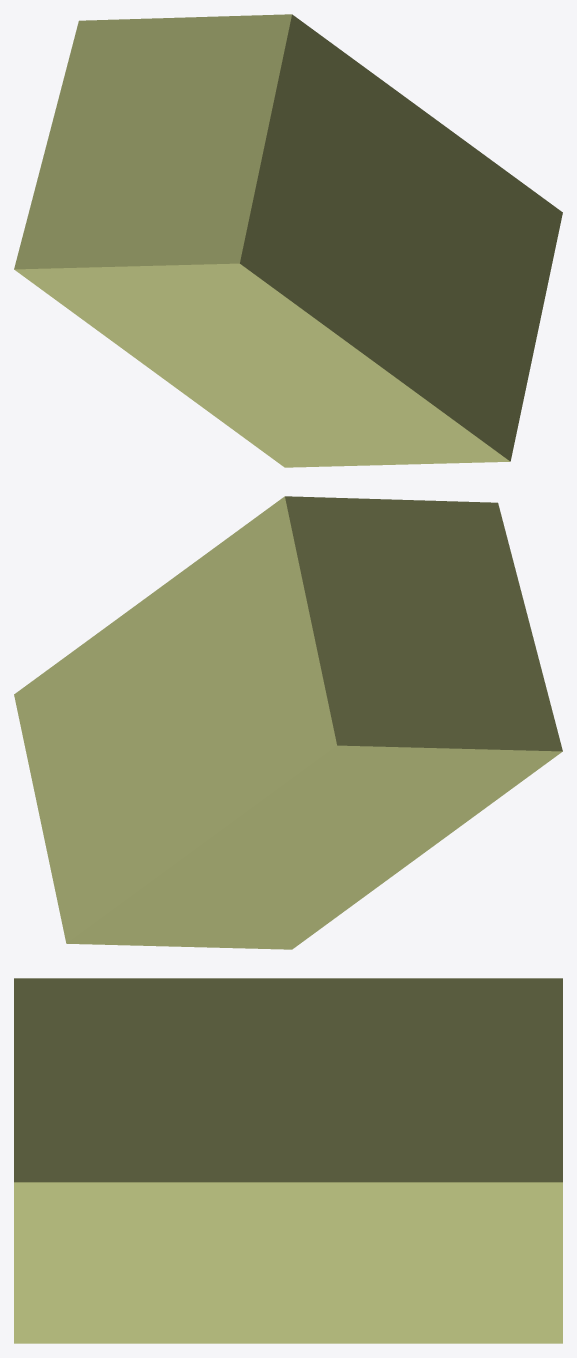
The picture shows the model from 3 angles, top to bottom: view 1: azimuth 30°, elevation 25°; view 2: azimuth 150°, elevation 25°; view 3: azimuth 270°, elevation 25°; orthographic projection.
Parts seen in each view (by area): view 1: 0_0_1_2_0_0_1_3_3_3_2; view 2: 0_0_1_2_0_0_1_3_3_3_2; view 3: 0_0_1_2_0_0_1_3_3_3_2.
Part boxes in pixels (left/top/right/bottom): 0_0_1_2_0_0_1_3_3_3_2: left=14, top=14, right=562, bottom=467; 0_0_1_2_0_0_1_3_3_3_2: left=14, top=496, right=562, bottom=949; 0_0_1_2_0_0_1_3_3_3_2: left=14, top=978, right=562, bottom=1343.
Size of the model in its own units: 5.34 by 5.17 by 9.
